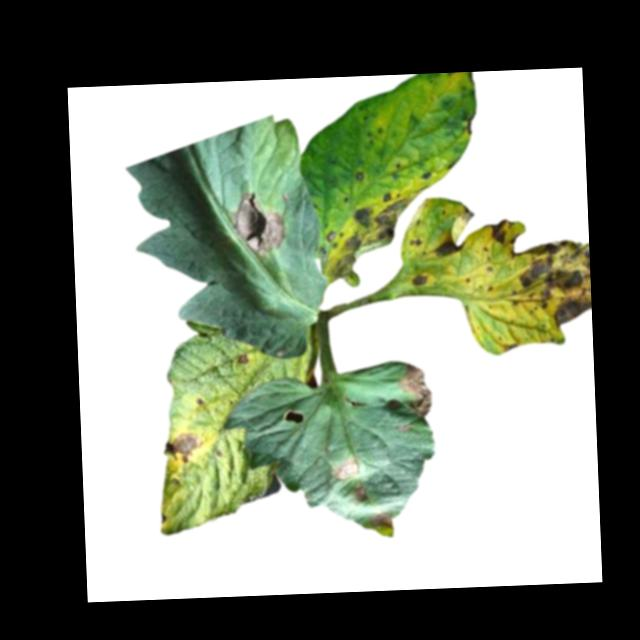Early_blight: (318, 191, 413, 282), (510, 237, 591, 328), (230, 189, 291, 257), (399, 360, 433, 421), (163, 432, 203, 464), (485, 217, 515, 246), (432, 237, 467, 261), (335, 457, 360, 483), (370, 509, 394, 529), (457, 202, 478, 224), (352, 485, 372, 504), (411, 271, 431, 290), (408, 234, 425, 251), (501, 340, 520, 353), (236, 352, 252, 366), (355, 168, 368, 181)
